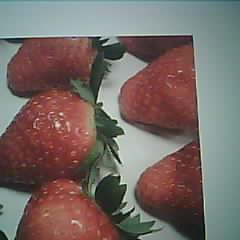straw-ripe: (0, 91, 97, 185), (120, 44, 198, 128), (18, 179, 120, 240), (8, 38, 100, 94)
